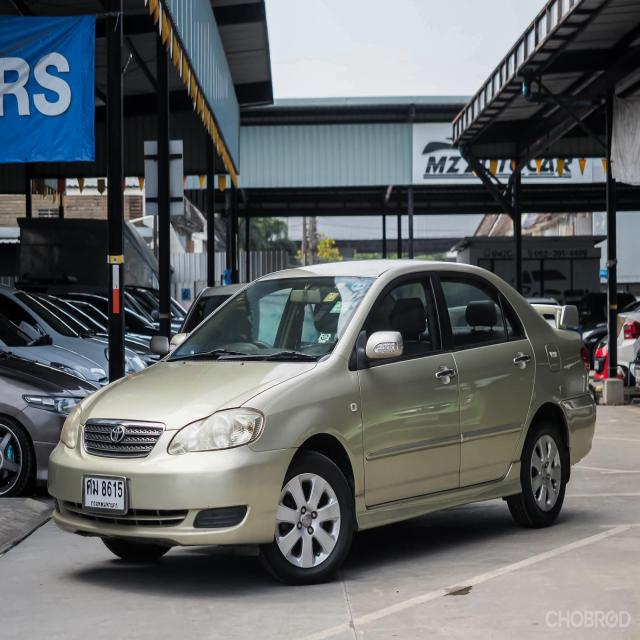license_plate: (82, 471, 129, 517)
